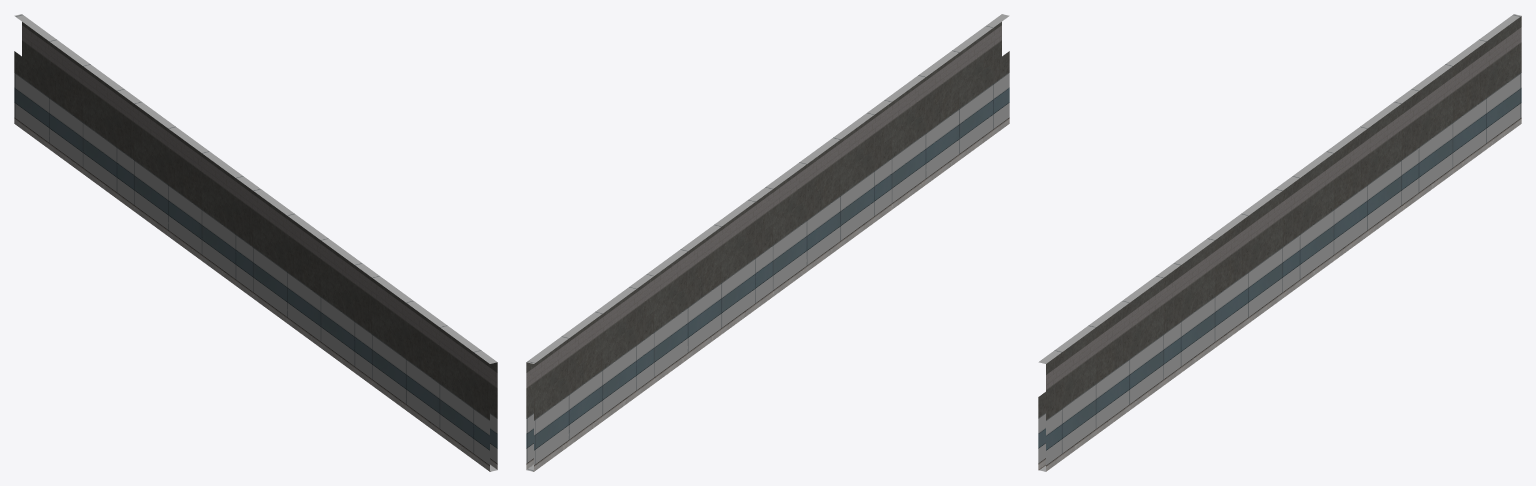
The model's file is barrier.fbx.
3 renders of one model, left to right at view 1: azimuth 30°, elevation 25°; view 2: azimuth 150°, elevation 25°; view 3: azimuth 330°, elevation 25°, orthographic.
Parts seen in each view (by area): view 1: Tunnel.003; view 2: Tunnel.003; view 3: Tunnel.003.
Boxes of the visible parts, box(x1,y1,x2,y2) form: Tunnel.003: box(14, 14, 497, 471); Tunnel.003: box(526, 14, 1009, 471); Tunnel.003: box(1038, 14, 1521, 471).
Size of the model in its own units: 60 by 800 by 6400.
